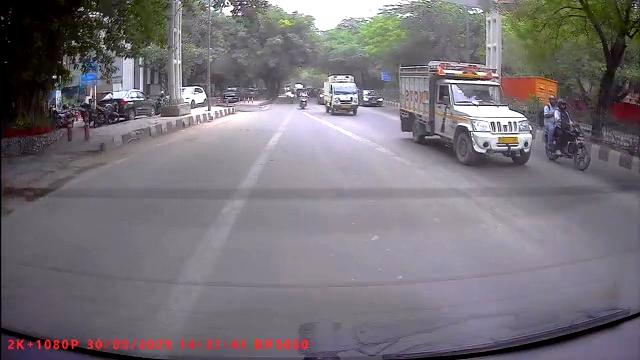passenger_with_helmet: (544, 96, 593, 171)
